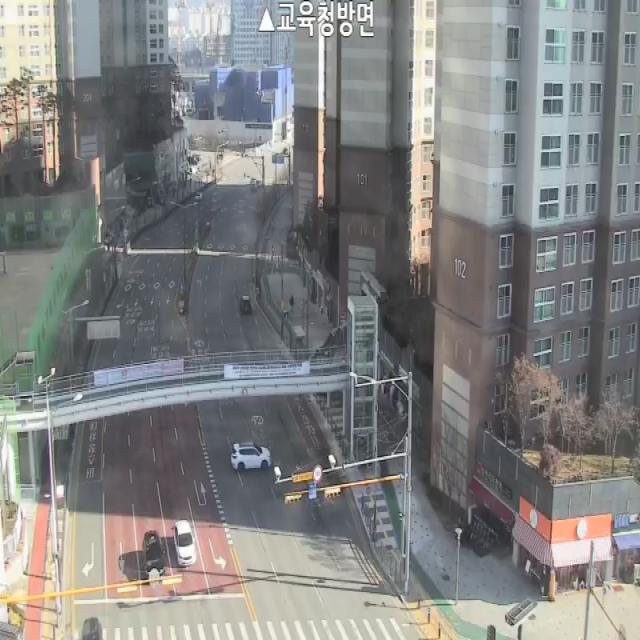Car: (231, 442, 272, 471), (142, 530, 166, 578), (174, 518, 197, 566), (82, 616, 102, 640), (240, 296, 252, 314)
